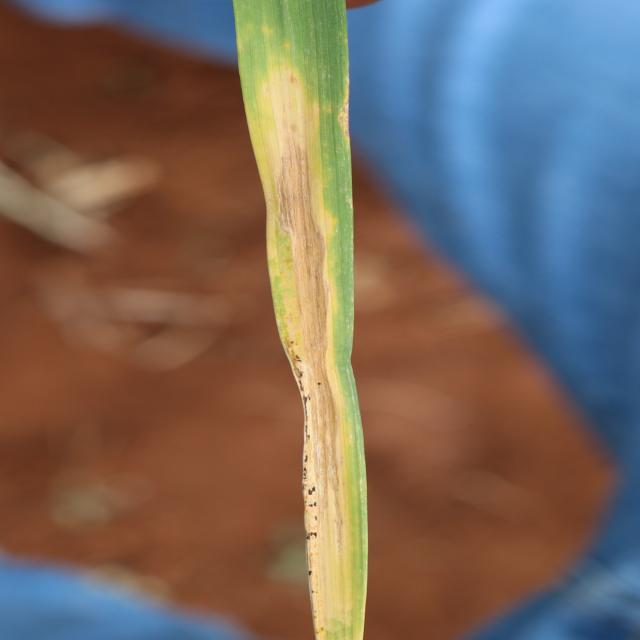Septoria: (247, 67, 374, 638)
